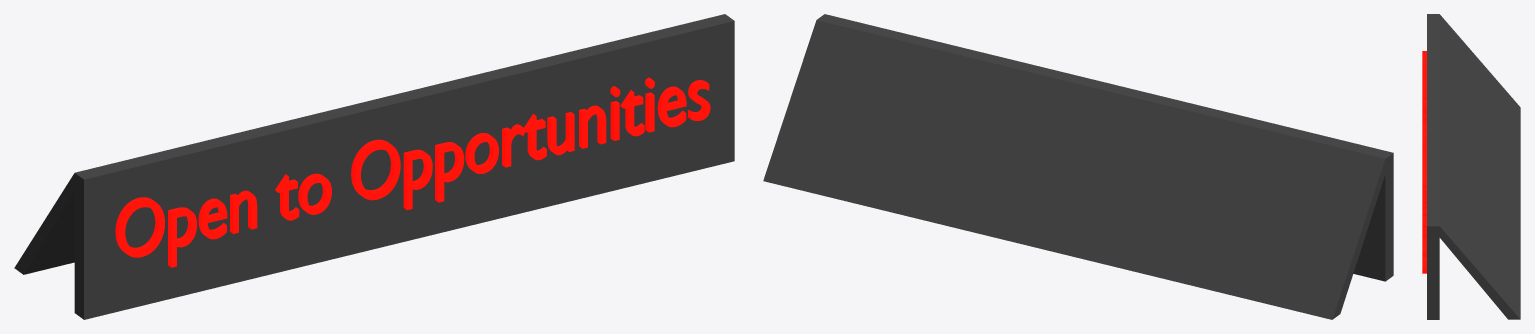
The model's file is openToOpportunities.glb.
3 views of the same model, side by side, from view 1: azimuth 30°, elevation 25°; view 2: azimuth 150°, elevation 25°; view 3: azimuth 270°, elevation 25° (orthographic). The views are drawn at different scales.
Visible parts, largest first — view 1: Cube, Text; view 2: Cube; view 3: Cube, Text.
Boxes of the visible parts, bbox=[...] form: Cube: bbox=[14, 14, 734, 319]; Text: bbox=[115, 77, 710, 267]; Cube: bbox=[763, 14, 1393, 319]; Cube: bbox=[1427, 14, 1520, 319]; Text: bbox=[1422, 51, 1426, 273].
Size of the model in its own units: 9.71 by 2 by 1.9.
